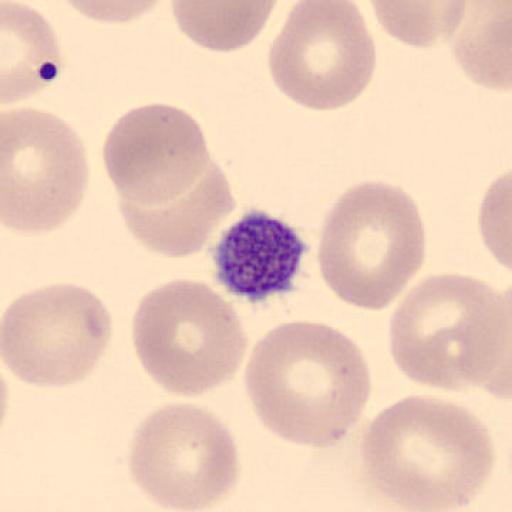Platelet: (212, 206, 307, 297), (33, 59, 67, 89)
RBC: (242, 317, 375, 450), (356, 394, 496, 510), (387, 271, 512, 396), (316, 179, 428, 313), (128, 275, 245, 398), (108, 150, 236, 258), (125, 400, 242, 510), (0, 280, 115, 390), (267, 0, 377, 113), (101, 102, 213, 212), (0, 106, 91, 234), (0, 0, 80, 110), (448, 0, 509, 96), (170, 0, 278, 54), (359, 0, 469, 53)
